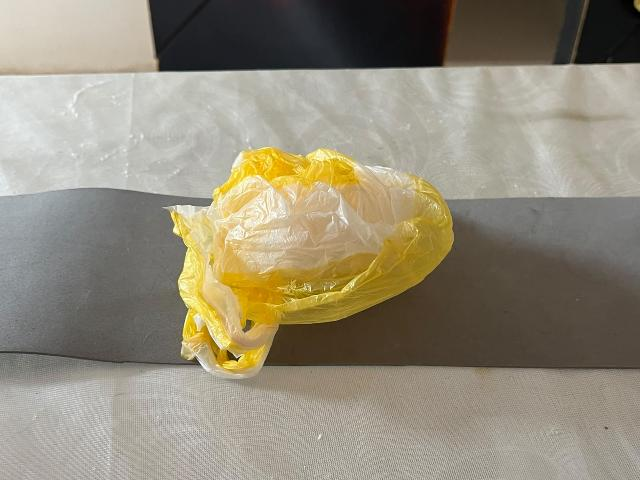LDPE: (148, 137, 472, 385)
